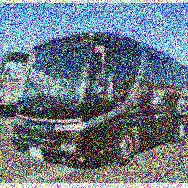bus: (13, 28, 185, 170)
